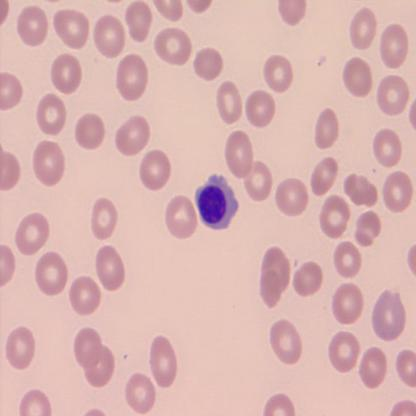NRC: (193, 173, 240, 231)
